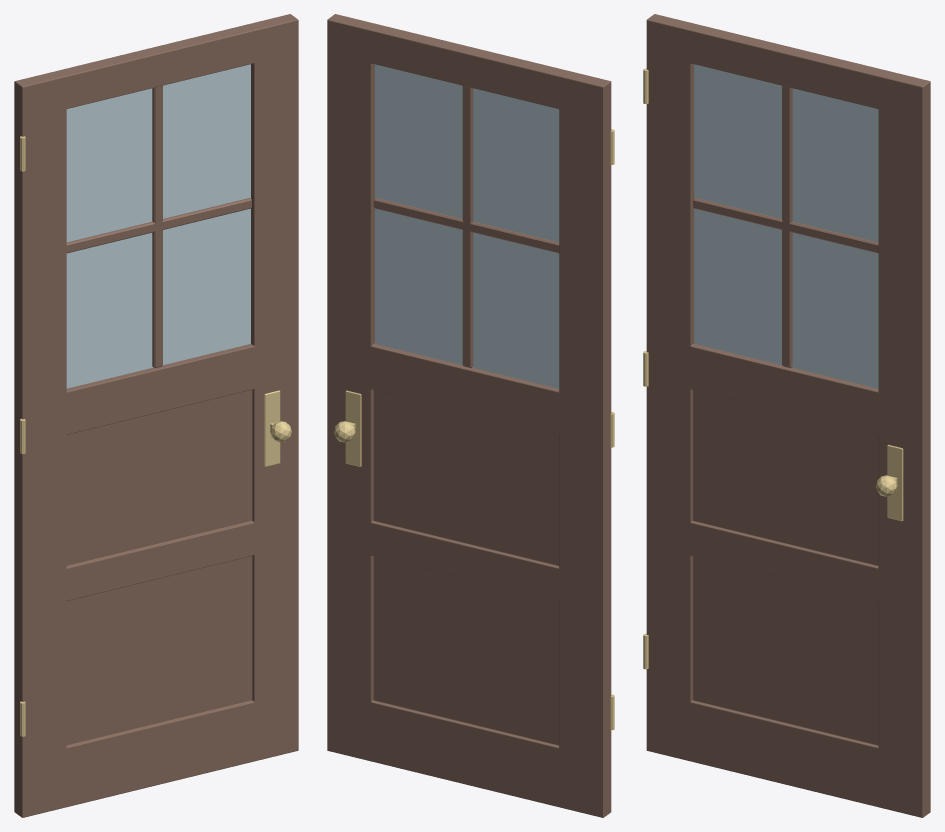
File: door_leaf_back.glb
3 views of the same model, side by side, from view 1: azimuth 30°, elevation 25°; view 2: azimuth 150°, elevation 25°; view 3: azimuth 330°, elevation 25° (orthographic).
Parts seen in each view (by area): view 1: door_leaf_back_door, door_leaf_back_glass, door_leaf_back_brass; view 2: door_leaf_back_door, door_leaf_back_glass, door_leaf_back_brass; view 3: door_leaf_back_door, door_leaf_back_glass, door_leaf_back_brass.
Part boxes in pixels (box(x1,y1,x2,y2)): door_leaf_back_door: box(14, 14, 298, 817); door_leaf_back_glass: box(66, 64, 250, 388); door_leaf_back_brass: box(20, 136, 291, 736); door_leaf_back_door: box(327, 14, 611, 817); door_leaf_back_glass: box(375, 64, 559, 388); door_leaf_back_brass: box(334, 129, 614, 730); door_leaf_back_door: box(646, 14, 930, 817); door_leaf_back_glass: box(694, 64, 878, 388); door_leaf_back_brass: box(643, 68, 903, 669).
Bounding box in the file's own units: 0.878 × 2.2 × 0.205.
